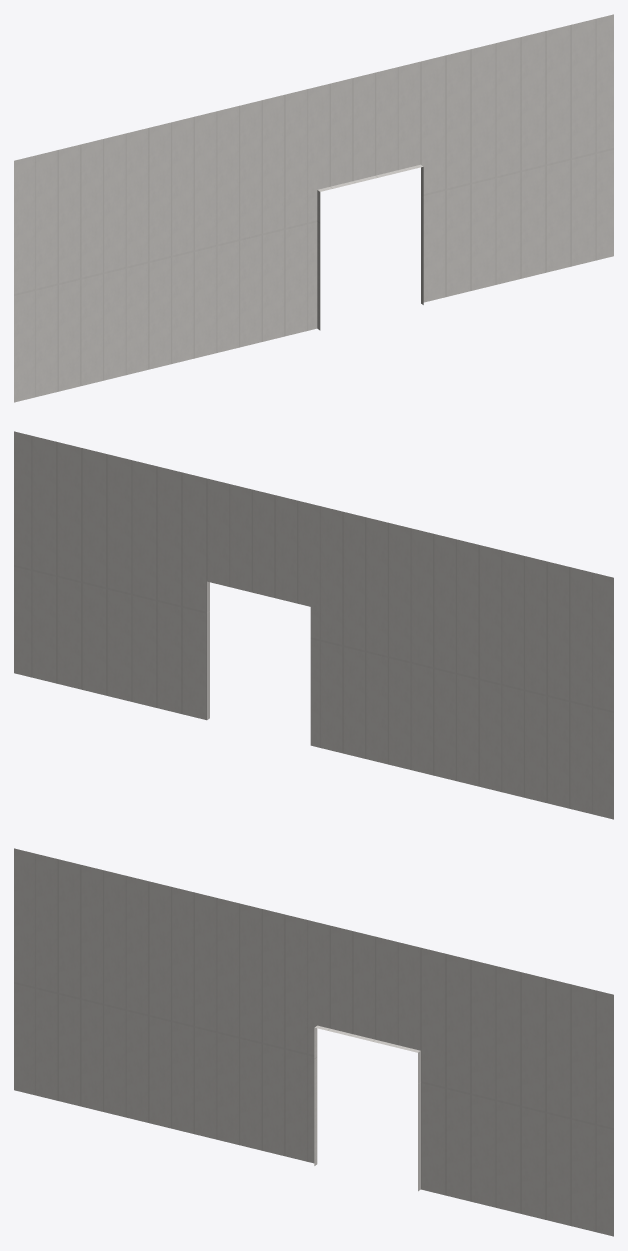
File: wall_f.fbx
3 renders of one model, top to bottom at view 1: azimuth 30°, elevation 25°; view 2: azimuth 150°, elevation 25°; view 3: azimuth 330°, elevation 25°, orthographic.
Visible parts, largest first — view 1: Plane015; view 2: Plane015; view 3: Plane015.
Boxes of the visible parts, left/top/right/bottom form: Plane015: left=14, top=14, right=613, bottom=402; Plane015: left=14, top=431, right=613, bottom=819; Plane015: left=14, top=848, right=613, bottom=1236.
Bounding box in the file's own units: 1118 × 9.28 × 431.
